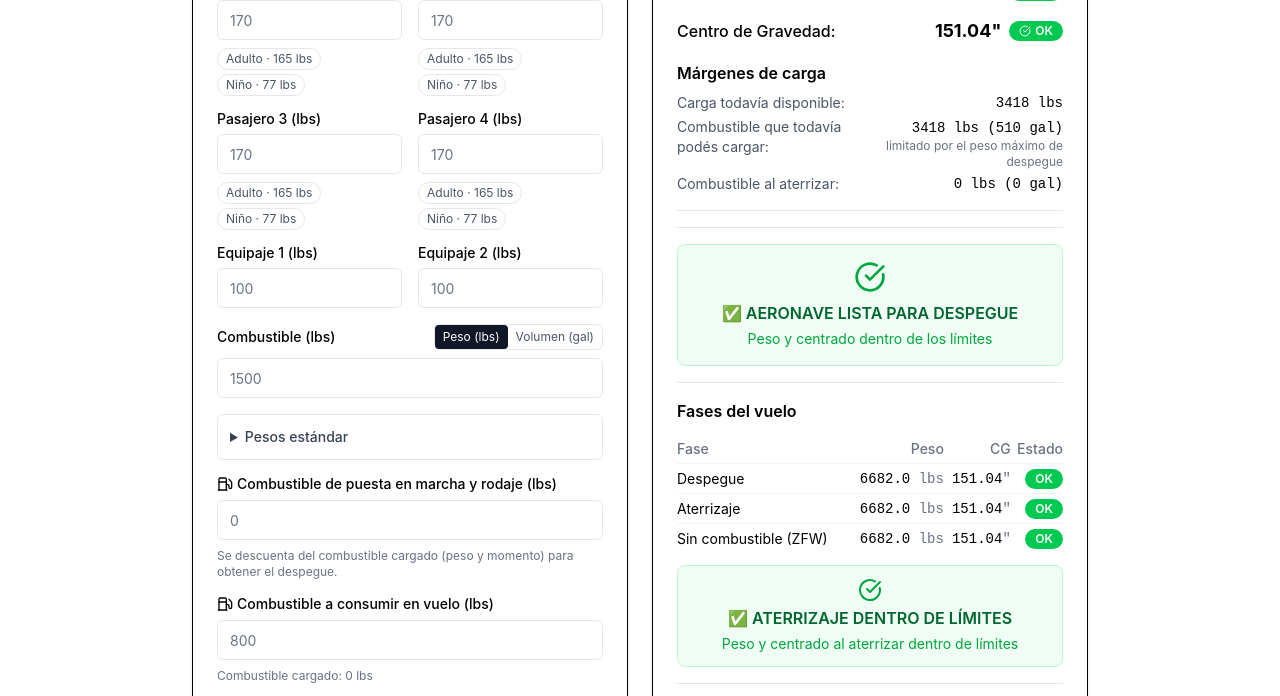
it: load advice (integración) › appears with the takeoff verdict when overweight and goes away once fixed
(page scrolled)
Type "5000" into the number field labelled "Combustible (lbs)" at x=410, y=378, box [217, 358, 603, 398]
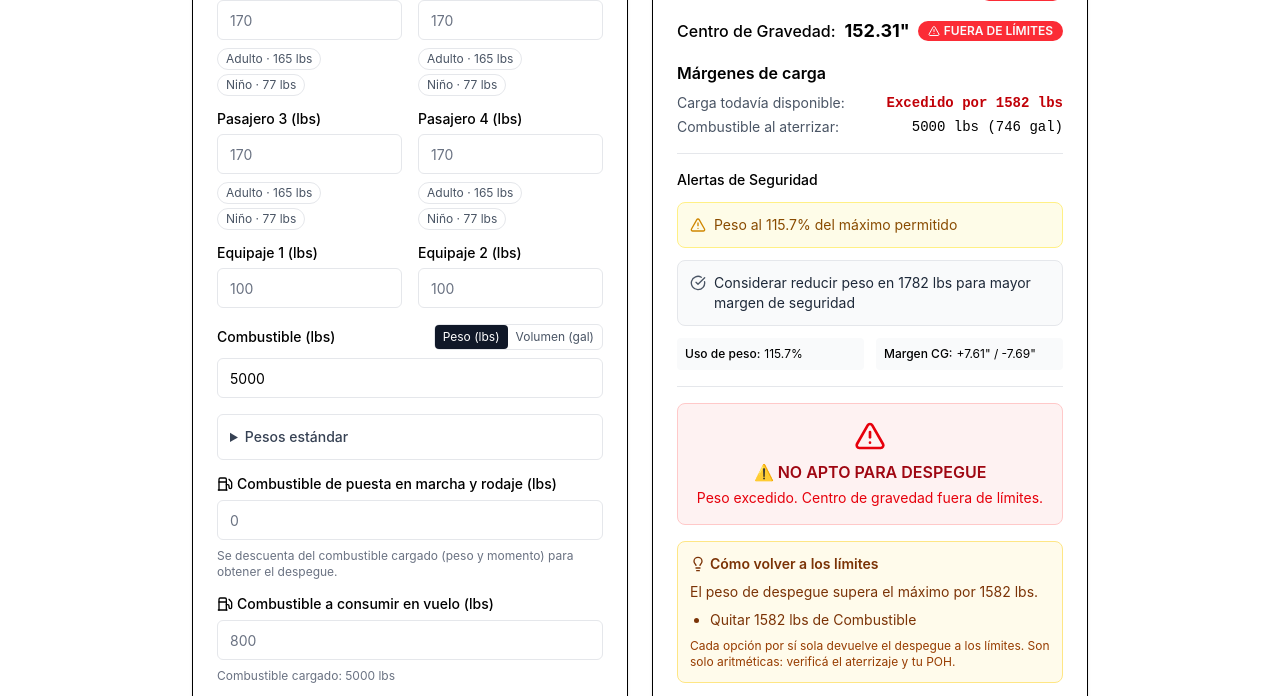
Result: the element with test id "load-advice" shows "supera el máximo por 1582 lbs" at [690, 583, 1038, 600]
Result: the list item "Quitar 1582 lbs de Combustible" is shown at [710, 611, 916, 628]
Replace the text in the number field labelled "Combustible (lbs)" with "3418" at x=410, y=378, box [217, 358, 603, 398]
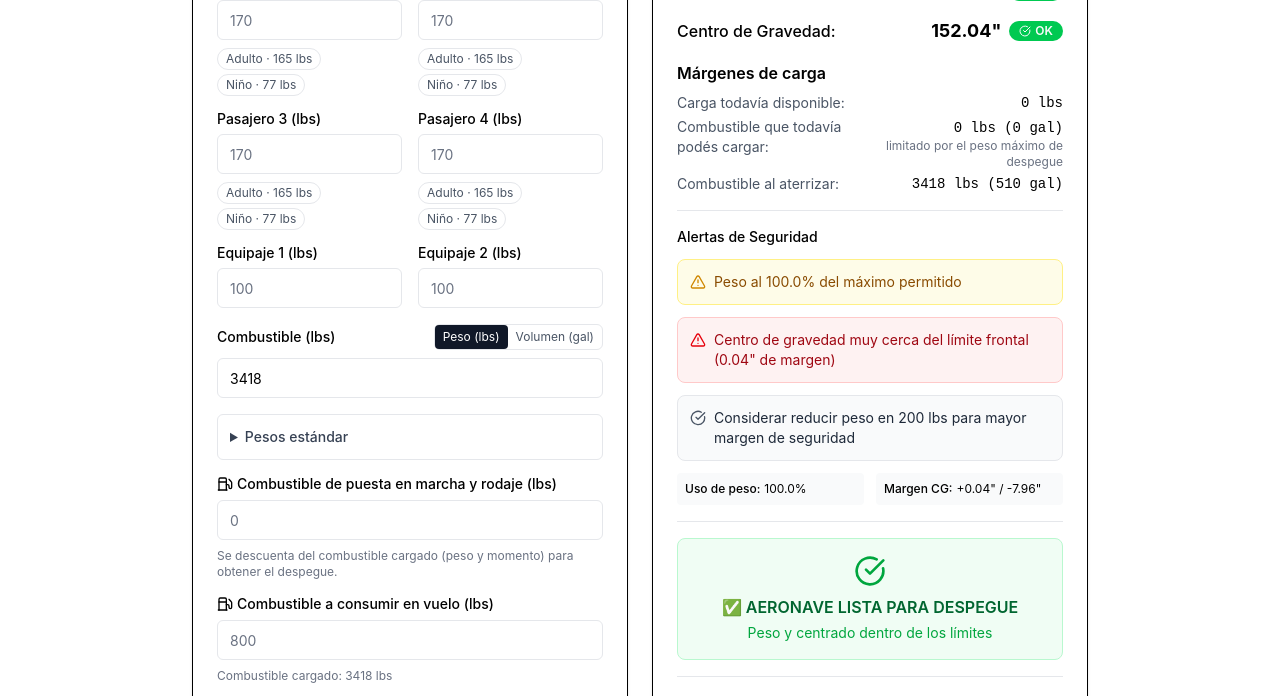
Result: the element with test id "load-advice" is gone
